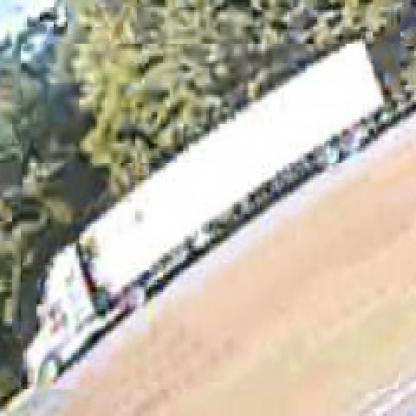container: (22, 45, 401, 393)
